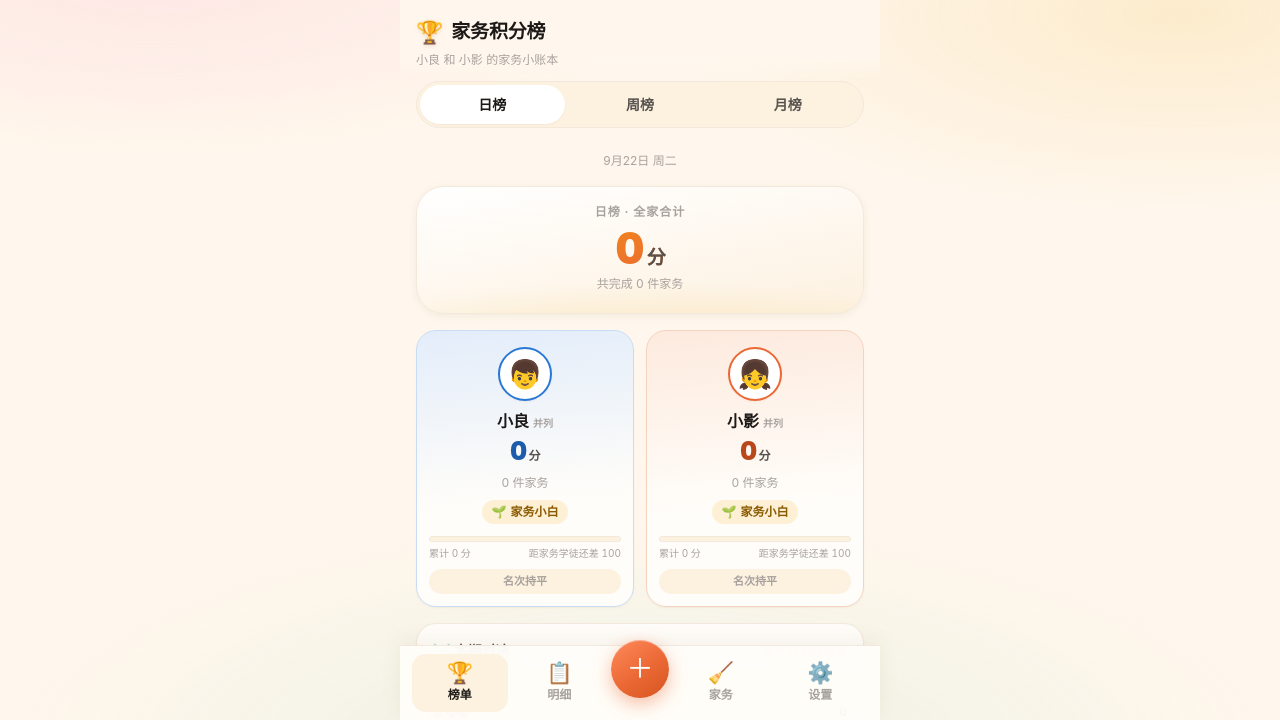
Test: 榜单页 › 没有记录时显示空状态提示
Click the button "📋 明细". click: [559, 683]
box: left=512, top=654, right=607, bottom=712
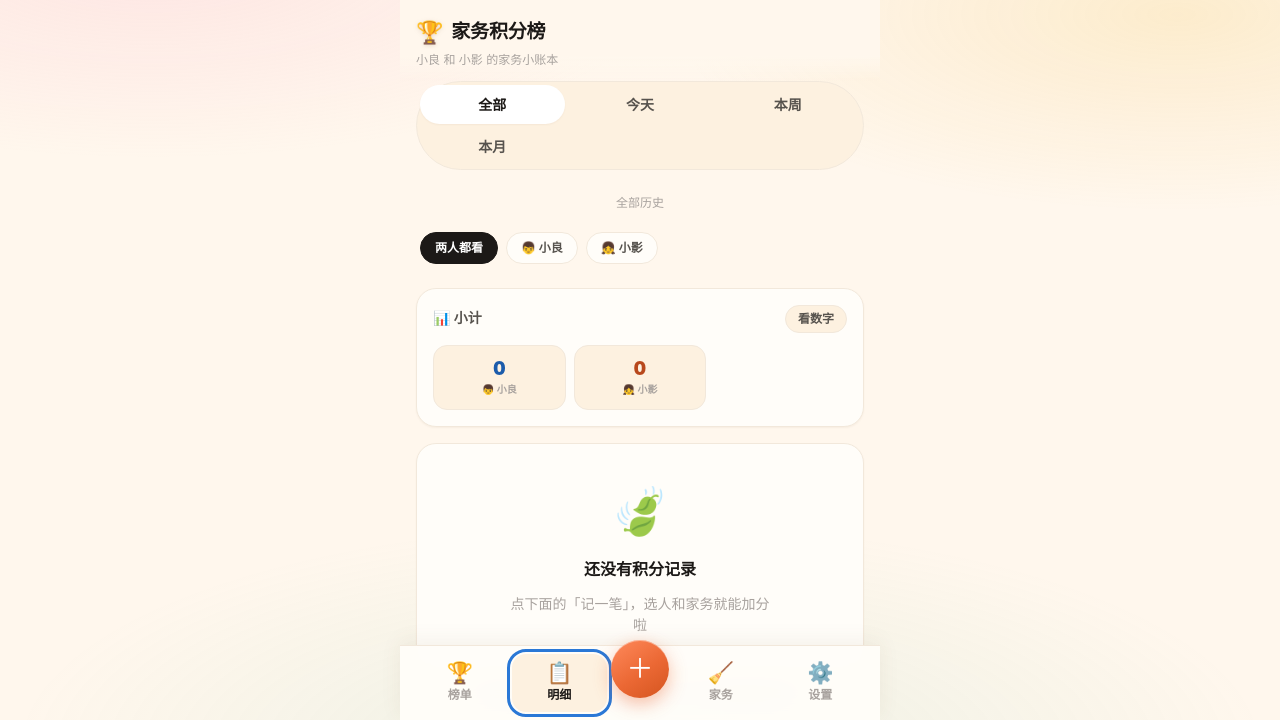
Check: the text "还没有积分记录" is shown, box left=584, top=557, right=696, bottom=581
